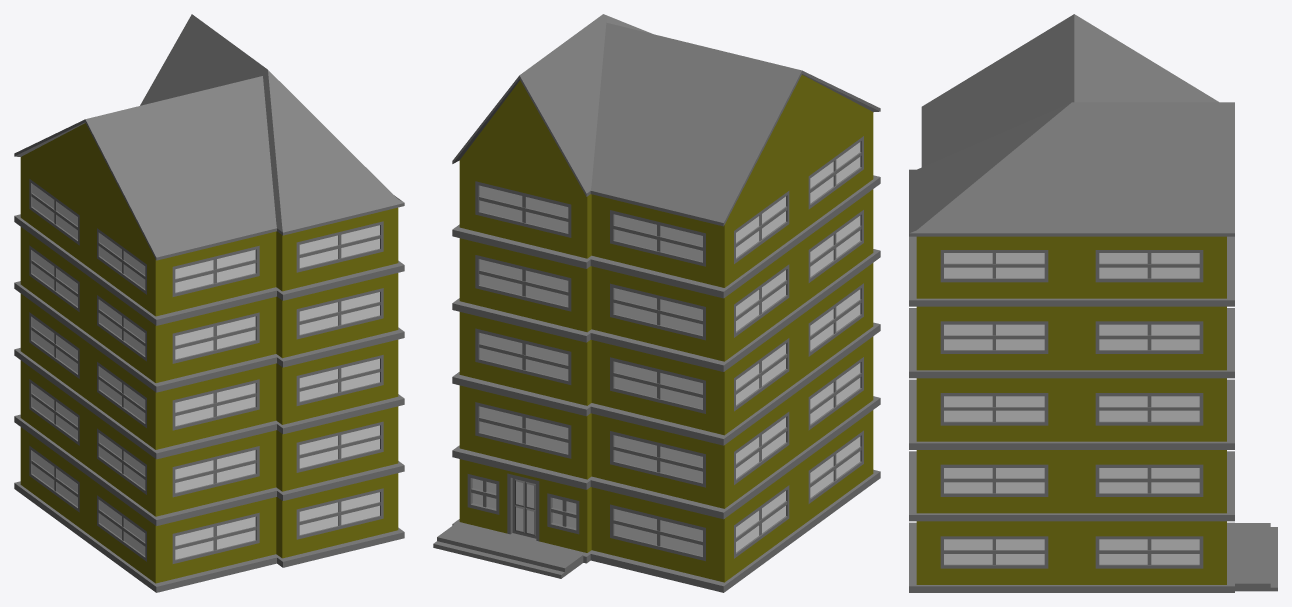
Rendered from business building 18.fbx.
3 renders of one model, left to right at view 1: azimuth 30°, elevation 25°; view 2: azimuth 150°, elevation 25°; view 3: azimuth 270°, elevation 25°, orthographic. The views are drawn at different scales.
Visible parts, largest first — view 1: building_001; view 2: building_001; view 3: building_001.
Boxes of the visible parts, x1,y1,x2,y2 form: building_001: (14,14,404,592); building_001: (433,14,880,592); building_001: (909,14,1277,592).
Bounding box in the file's own units: 836 × 1410 × 1028.
